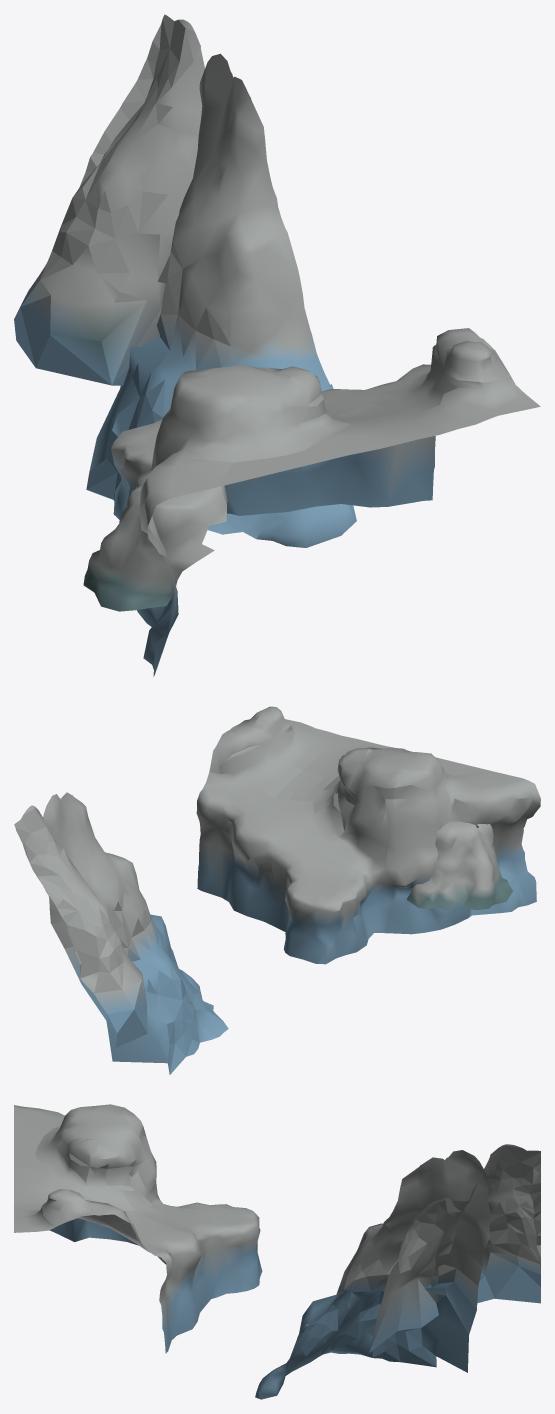
3 views of the same model, one above another, from view 1: azimuth 30°, elevation 25°; view 2: azimuth 150°, elevation 25°; view 3: azimuth 270°, elevation 25° (orthographic). The views are drawn at different scales.
Parts seen in each view (by area): view 1: G:\FFXIV-MapTools\exports\w1f1\bg\ffxiv\wil_w1\fld\w1f1\bgpl (×9); view 2: G:\FFXIV-MapTools\exports\w1f1\bg\ffxiv\wil_w1\fld\w1f1\bgpl (×11); view 3: G:\FFXIV-MapTools\exports\w1f1\bg\ffxiv\wil_w1\fld\w1f1\bgpl (×10).
Boxes of the visible parts, x1,y1,x2,y2 form: G:\FFXIV-MapTools\exports\w1f1\bg\ffxiv\wil_w1\fld\w1f1\bgpl (×9): [14, 14, 540, 676]; G:\FFXIV-MapTools\exports\w1f1\bg\ffxiv\wil_w1\fld\w1f1\bgpl (×11): [14, 706, 540, 1074]; G:\FFXIV-MapTools\exports\w1f1\bg\ffxiv\wil_w1\fld\w1f1\bgpl (×10): [14, 1104, 540, 1399].
Bounding box in the file's own units: 77.26 × 73.76 × 128.
